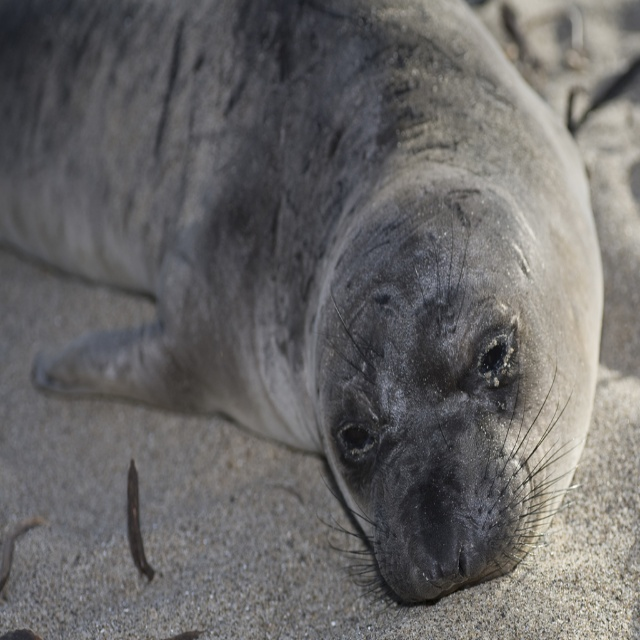Harbor seal: (0, 0, 604, 612)
